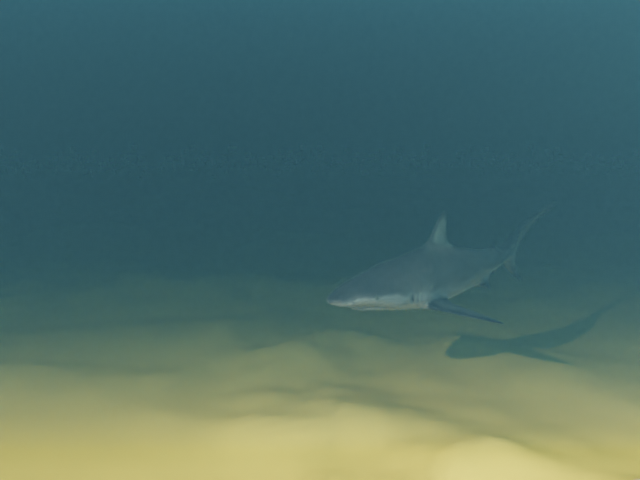Carribean Shark.001: (326, 201, 555, 323)
